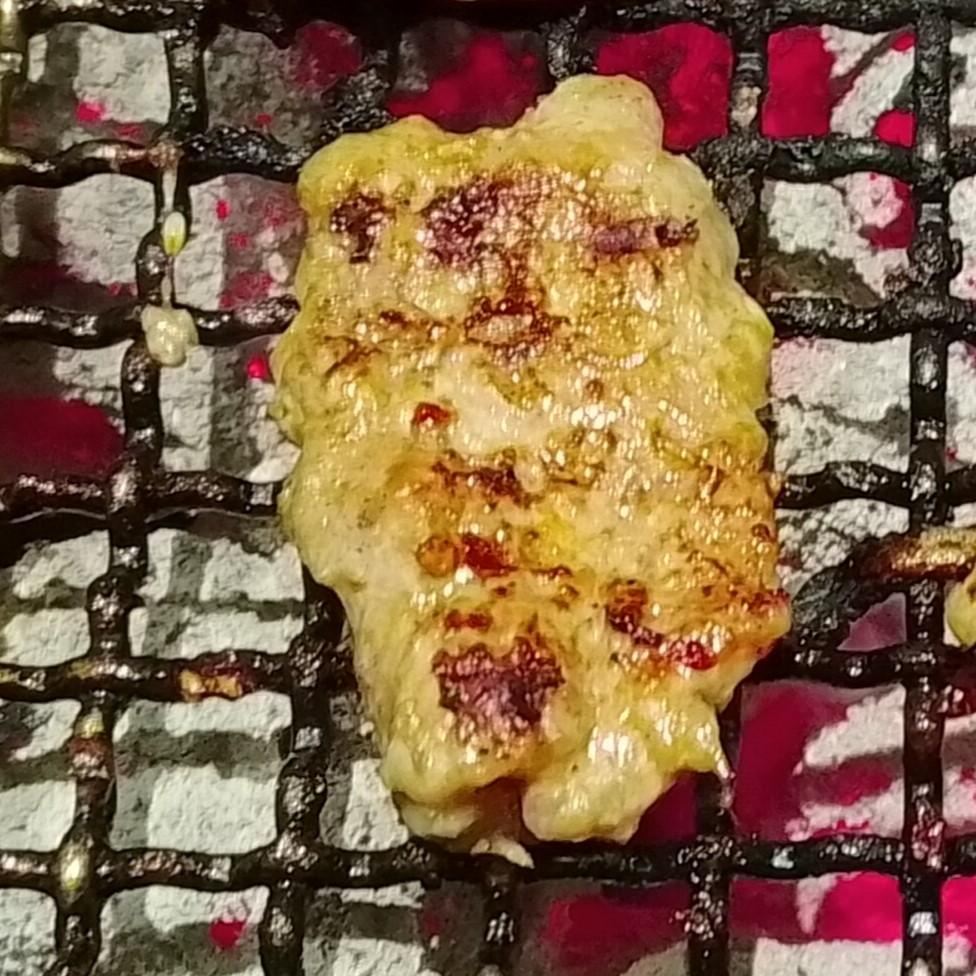Well-Cooked: (268, 75, 791, 844)
